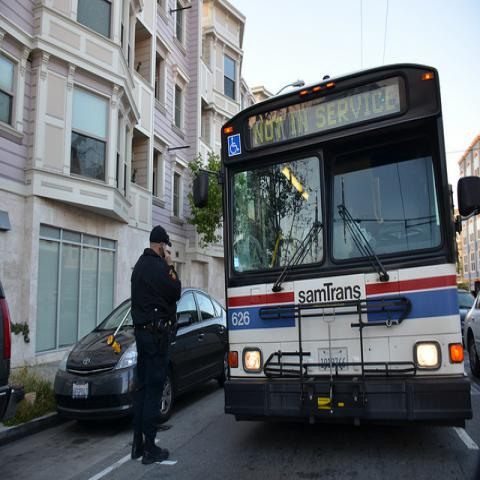bus: (220, 63, 480, 424)
car: (53, 289, 228, 423), (464, 292, 480, 374), (458, 288, 475, 350)
